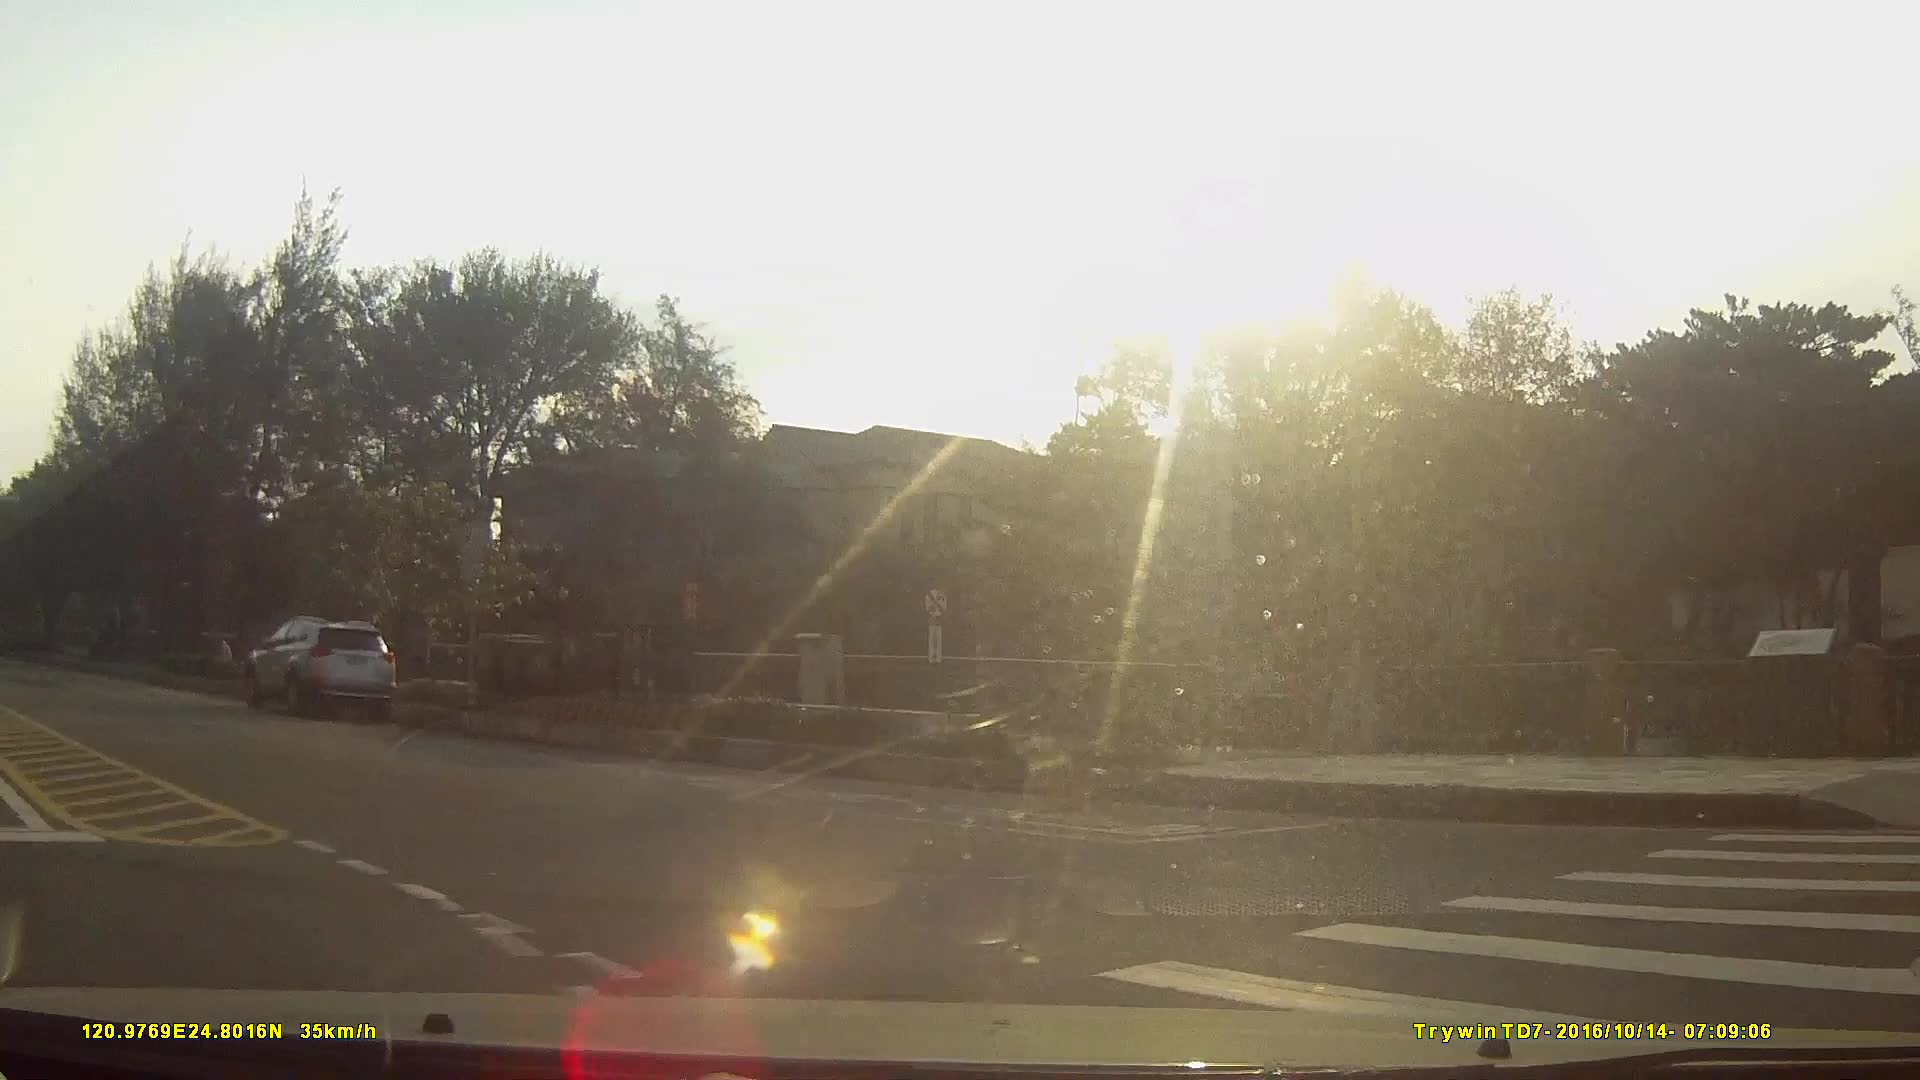vehicle: (243, 617, 394, 727)
